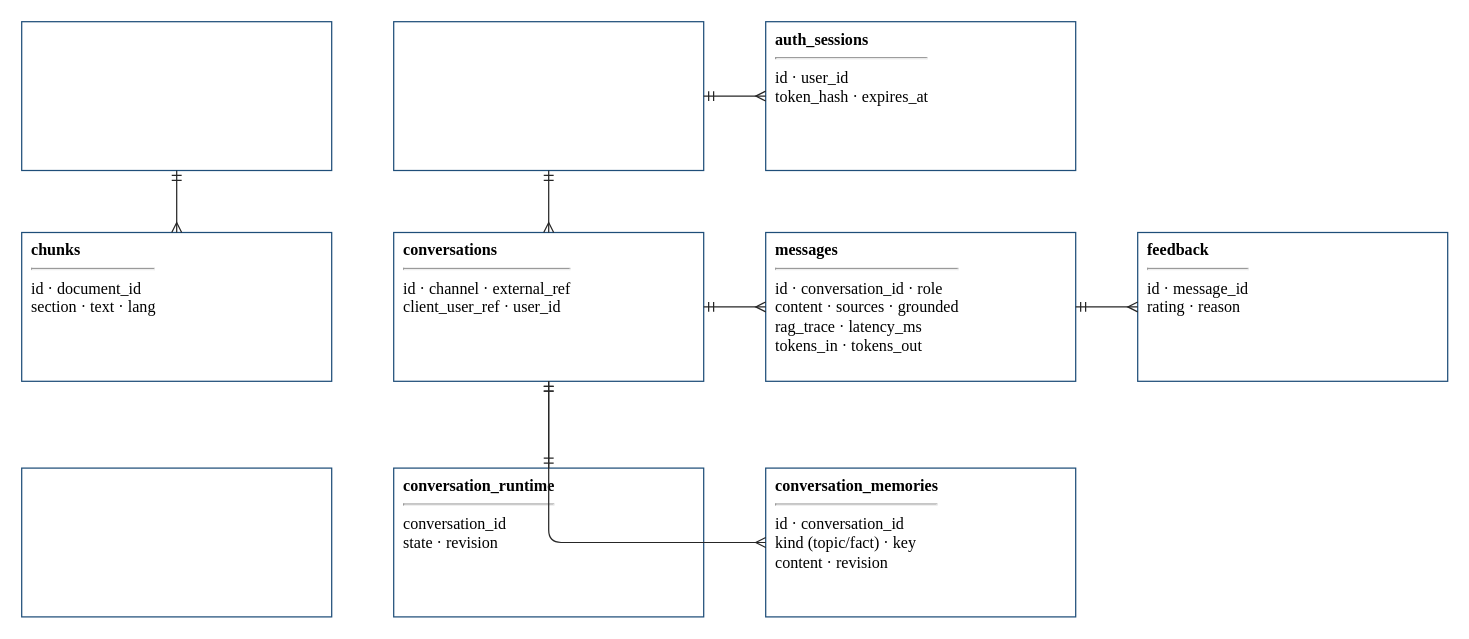
Some shapes in this 1469 by 639 pixel diagram are drawn without their labels. Here are the shapes that lost their labels. From the top down, the centre of each, then its label:
At [176,95]: "documents id · source · title · url revision_id · game_scope".
At [548,95]: "users id · provider provider_user_hash".
At [176,542]: "ingestion_jobs · eval_runs discord_guild_channels (bảng phụ trợ)".
